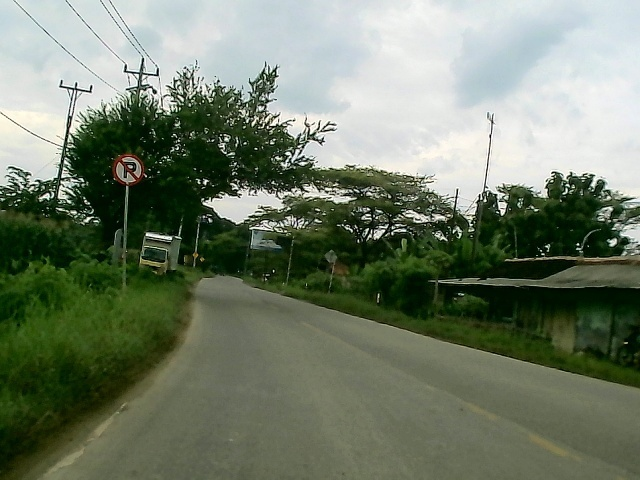Dilarang parkir: (110, 154, 146, 187)
